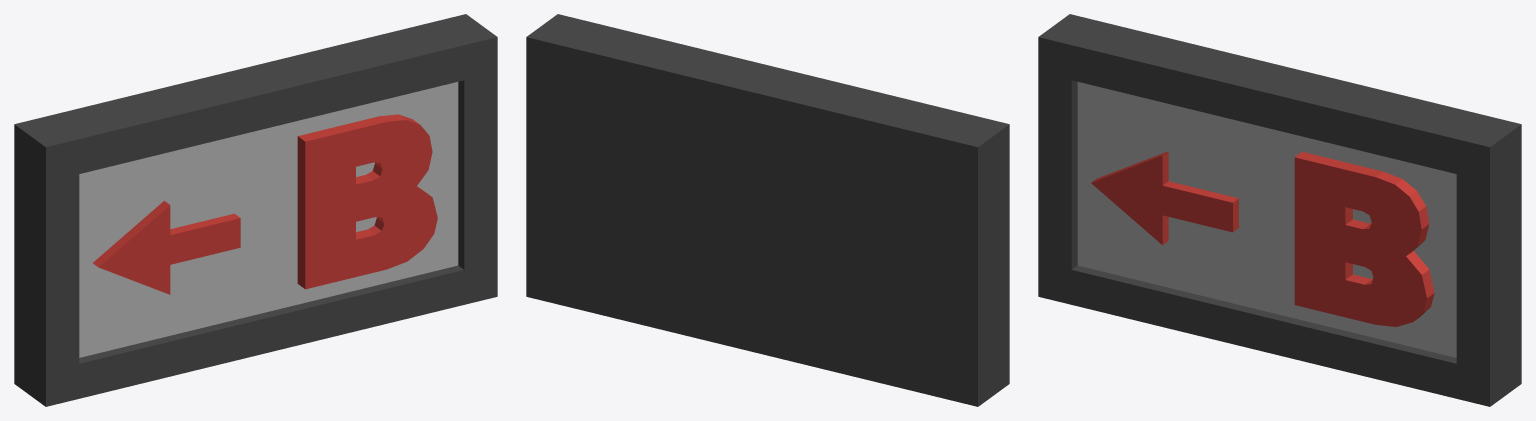
File: SignB_02.fbx
3 renders of one model, left to right at view 1: azimuth 30°, elevation 25°; view 2: azimuth 150°, elevation 25°; view 3: azimuth 330°, elevation 25°, orthographic.
Visible parts, largest first — view 1: SignB_02; view 2: SignB_02; view 3: SignB_02.
Boxes of the visible parts, x1=… form: SignB_02: x1=14, y1=14, x2=497, y2=406; SignB_02: x1=526, y1=14, x2=1009, y2=406; SignB_02: x1=1038, y1=14, x2=1521, y2=406.
Size of the model in its own units: 58.56 by 32.16 by 7.45.
